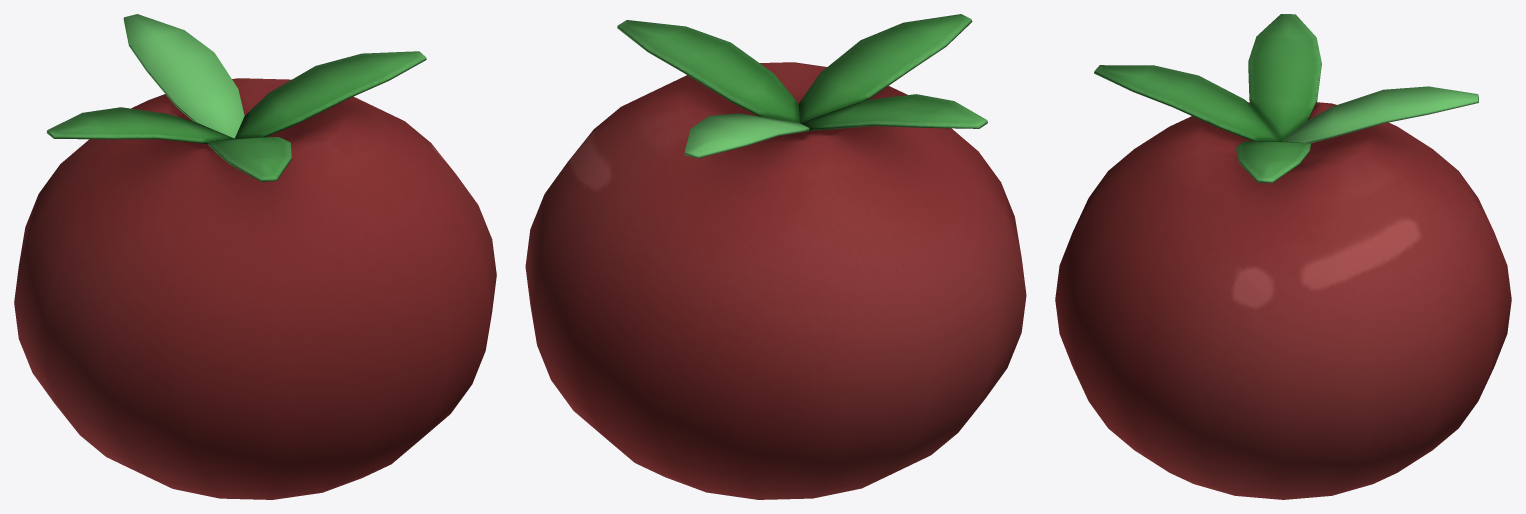
Rendered from MSH_Tomate.fbx.
The picture shows the model from 3 angles, left to right: view 1: azimuth 30°, elevation 25°; view 2: azimuth 150°, elevation 25°; view 3: azimuth 270°, elevation 25°; orthographic projection. The views are drawn at different scales.
Visible parts, largest first — view 1: MSH_Tomate; view 2: MSH_Tomate; view 3: MSH_Tomate.
Boxes of the visible parts, <box> form: MSH_Tomate: <box>14,14,496,499</box>; MSH_Tomate: <box>525,14,1026,499</box>; MSH_Tomate: <box>1055,14,1511,499</box>.
Bounding box in the file's own units: 15.84 × 15.67 × 13.94.
Materials: 1 (1 with a texture image).
